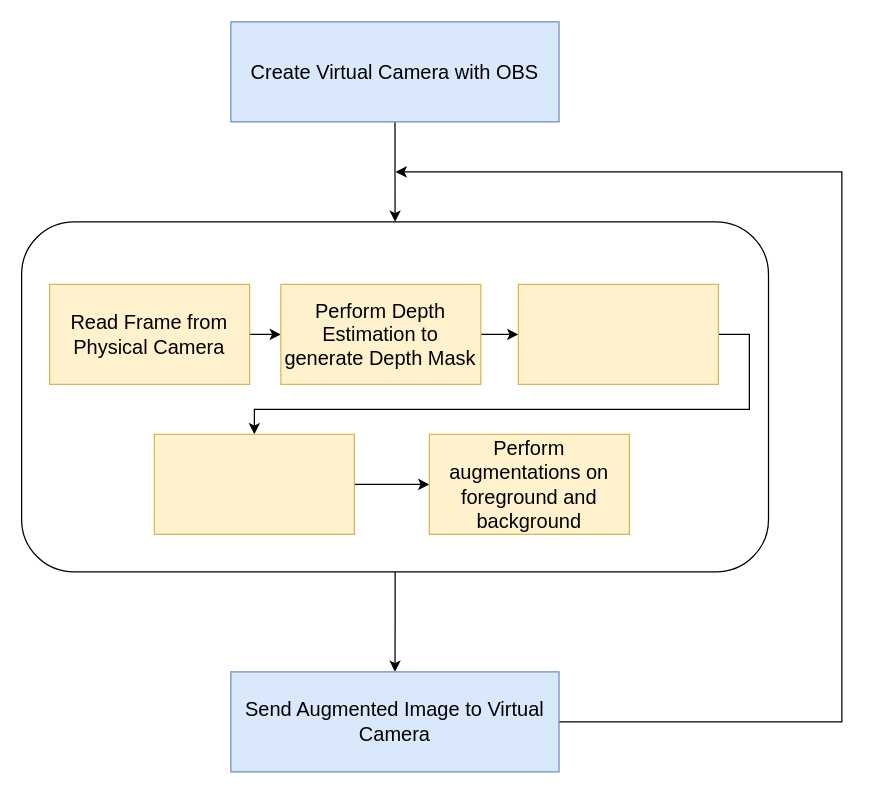
Image size: 875x794. Some labels were removed from this diagram. Here are the shapes that lost their labels. From the top down, the centre of each, then its label:
the point at 617,333: Use depth mask with extract foreground
the point at 253,483: Separate Foreground and Background
